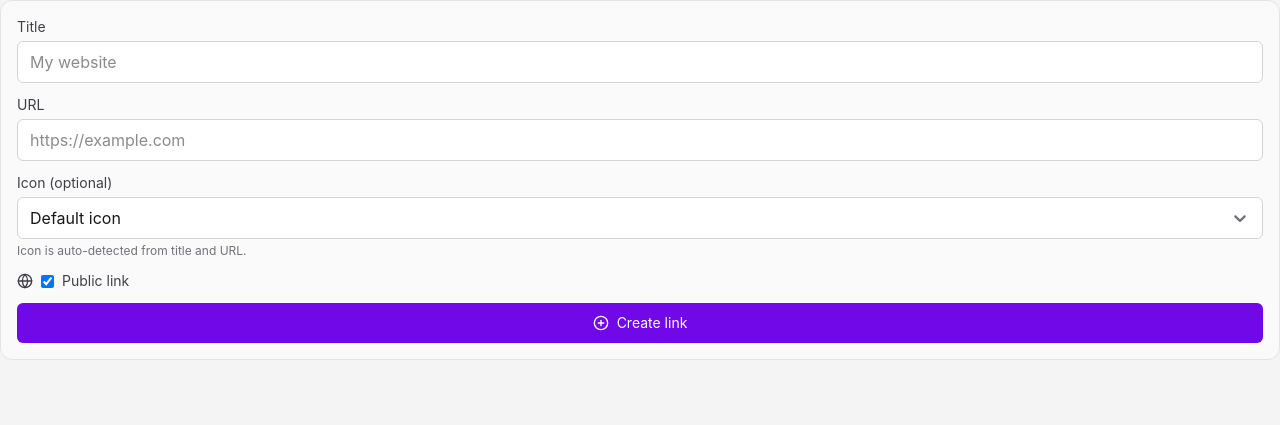
Scenario: DashboardLinkForm validation › blocks submit and names both empty fields instead of failing silently
Click the button "Create link" at [640, 323], box [17, 303, 1263, 343]
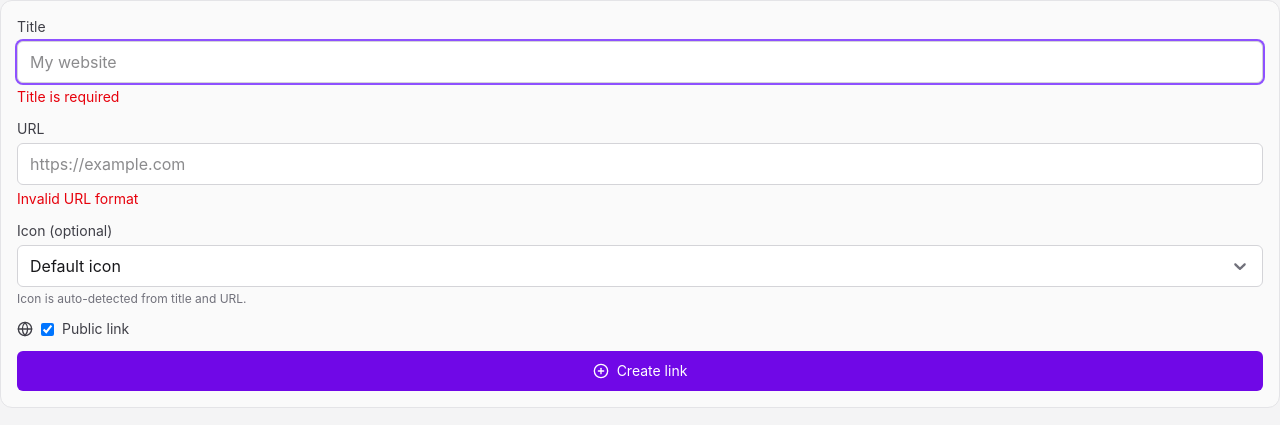
Expected: the text "Title is required" is shown, [17, 88, 119, 105]
Expected: the text "Invalid URL format" is shown, [17, 190, 138, 207]
